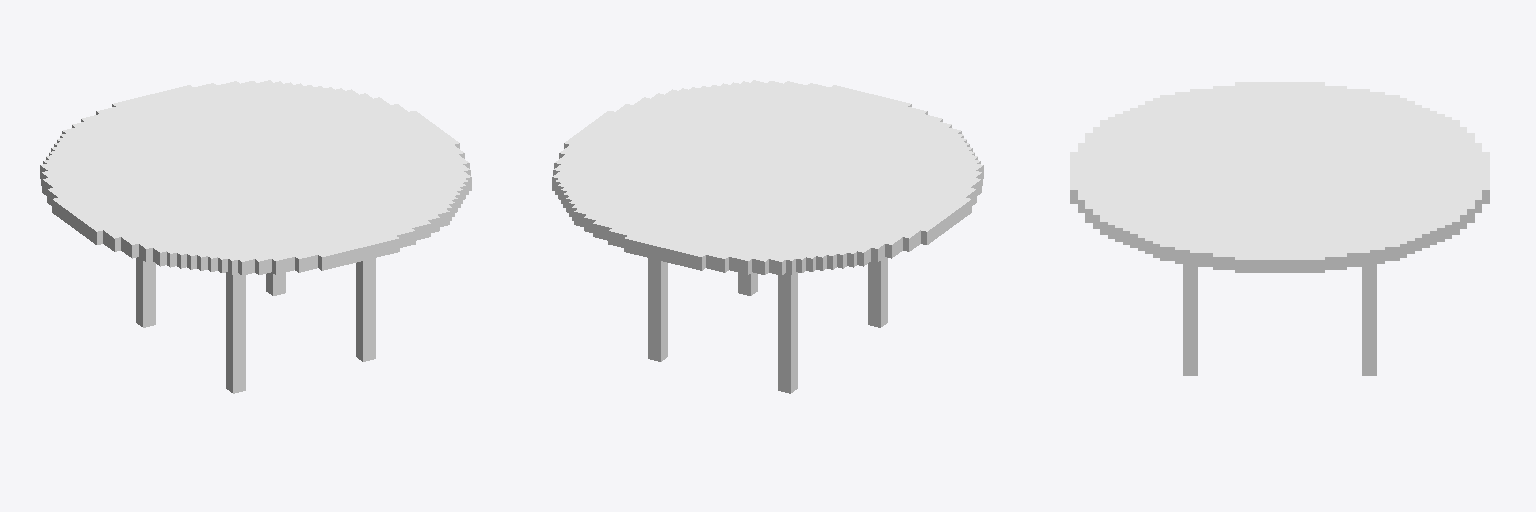
The model's file is roundtable.obj.
The picture shows the model from 3 angles: view 1: azimuth 30°, elevation 25°; view 2: azimuth 150°, elevation 25°; view 3: azimuth 270°, elevation 25°; orthographic projection.
Parts seen in each view (by area): view 1: roundtable; view 2: roundtable; view 3: roundtable.
Part boxes in pixels (x1,y1,x2,y2): roundtable: (40,80,471,393); roundtable: (552,80,983,393); roundtable: (1070,82,1489,375).
Size of the model in its own units: 56 by 25 by 56.